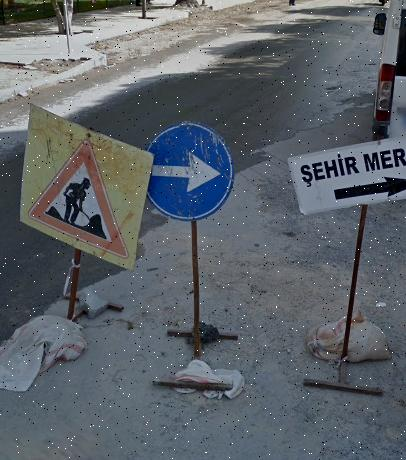turnright: (144, 119, 233, 220)
